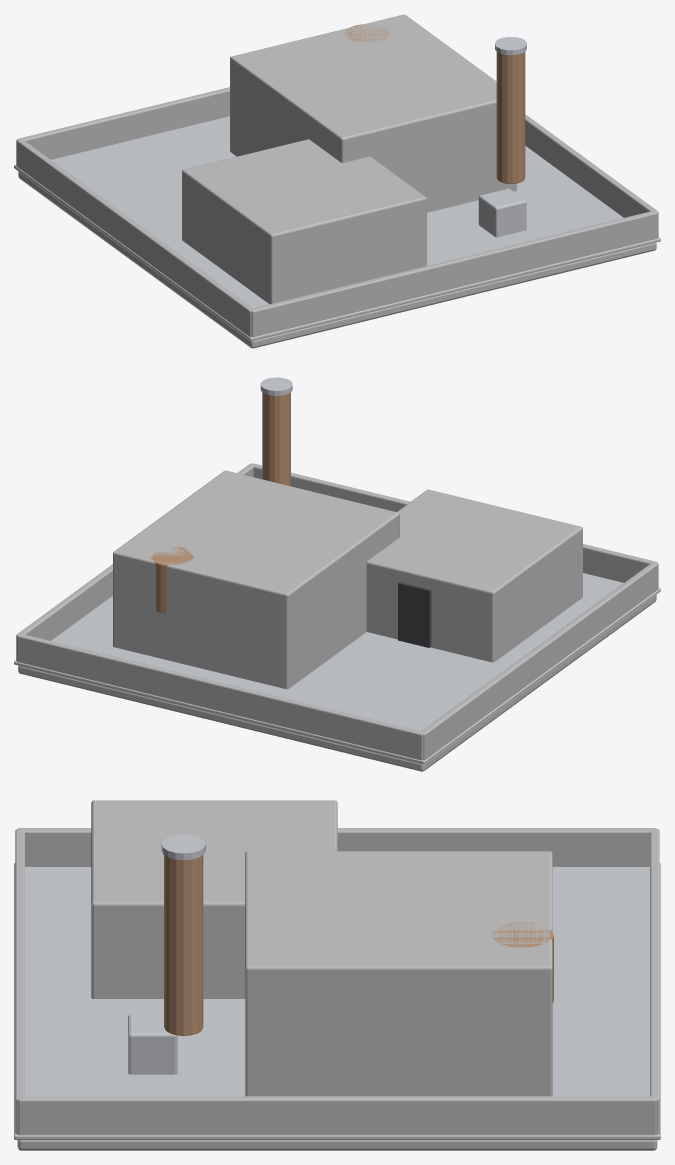
Rendered from roof_5x5_boiler_concrete.glb.
3 views of the same model, one above another, from view 1: azimuth 30°, elevation 25°; view 2: azimuth 150°, elevation 25°; view 3: azimuth 270°, elevation 25° (orthographic). The views are drawn at different scales.
Parts seen in each view (by area): view 1: ext_boiler, ext_penthouse, ext_parapet, int_slab_edge, int_slab, ext_stack, ext_ac, ext_stack_top, ext_tank; view 2: ext_boiler, ext_parapet, ext_penthouse, int_slab_edge, int_slab, ext_stack, ext_penthouse_door, ext_tank; view 3: ext_boiler, int_slab_edge, ext_parapet, ext_penthouse, int_slab, ext_stack, ext_ac, ext_tank, ext_stack_top.
Boxes of the visible parts, x1,y1,x2,y2 form: ext_boiler: [230, 14, 516, 212]; ext_penthouse: [182, 139, 426, 304]; ext_parapet: [16, 87, 658, 337]; int_slab_edge: [14, 116, 660, 341]; int_slab: [18, 171, 656, 348]; ext_stack: [496, 52, 525, 183]; ext_ac: [478, 188, 526, 237]; ext_stack_top: [495, 36, 526, 55]; ext_tank: [345, 24, 389, 41]; ext_boiler: [113, 470, 399, 689]; ext_parapet: [16, 463, 658, 760]; ext_penthouse: [366, 489, 582, 662]; int_slab_edge: [14, 573, 660, 764]; int_slab: [18, 594, 656, 771]; ext_stack: [262, 392, 290, 486]; ext_penthouse_door: [398, 582, 431, 647]; ext_tank: [150, 546, 194, 613]; ext_boiler: [245, 851, 552, 1096]; int_slab_edge: [14, 863, 660, 1139]; ext_parapet: [15, 828, 659, 1135]; ext_penthouse: [91, 800, 337, 998]; int_slab: [17, 1140, 657, 1150]; ext_stack: [164, 855, 203, 1035]; ext_ac: [128, 1014, 177, 1074]; ext_tank: [492, 922, 553, 1003]; ext_stack_top: [161, 834, 205, 860].
Size of the model in its own units: 5.26 by 2.25 by 5.26.
